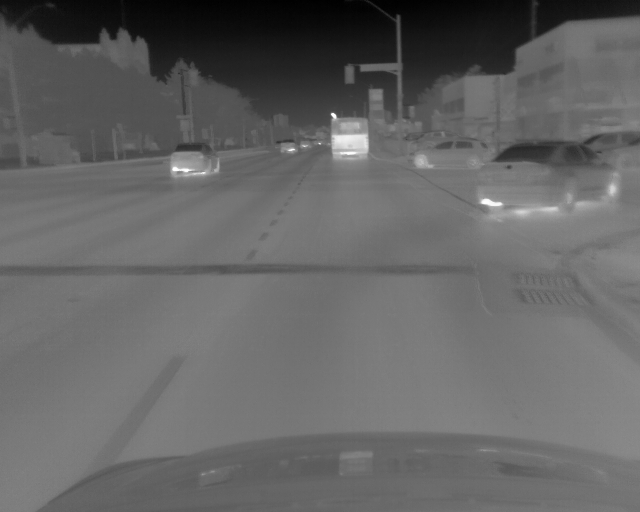car: (475, 141, 618, 213), (581, 131, 640, 185), (406, 139, 487, 173), (169, 142, 220, 177), (329, 117, 368, 161), (406, 129, 456, 148), (280, 141, 298, 157), (299, 139, 310, 149), (312, 138, 323, 146)
